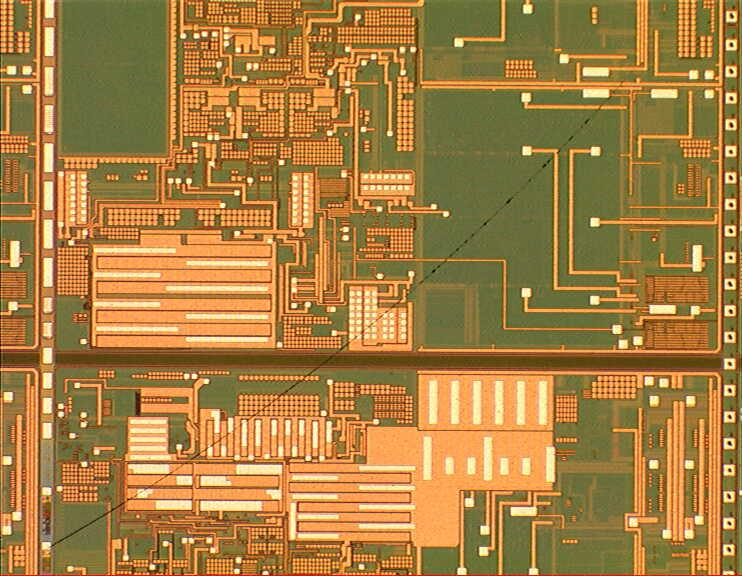SCRATCH: (43, 59, 642, 555)
